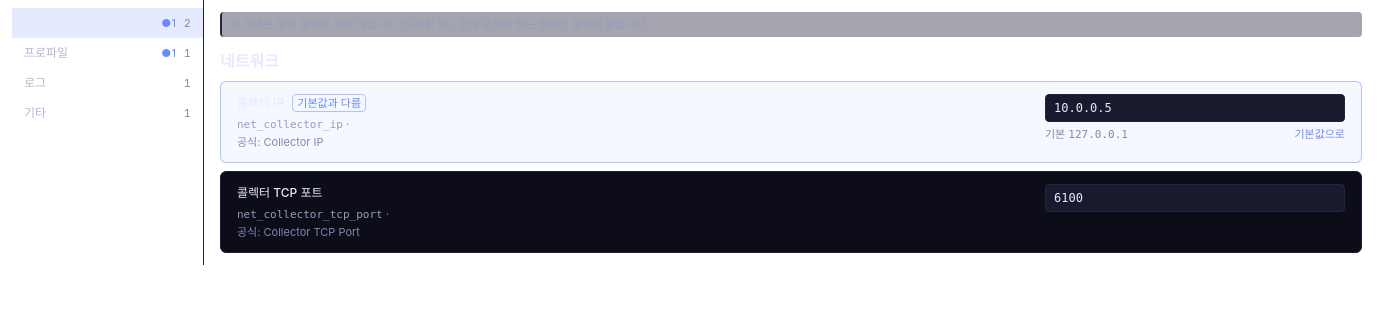
it: SettingsForm — 고치기 › 구역 목록에 저장하지 않은 바뀜 수가 뜬다
This screenshot has width=1378, height=325.
Replace the text in the field named "net_collector_ip" with "10.0.0.9" at (1195, 108), box [1045,94,1345,122]
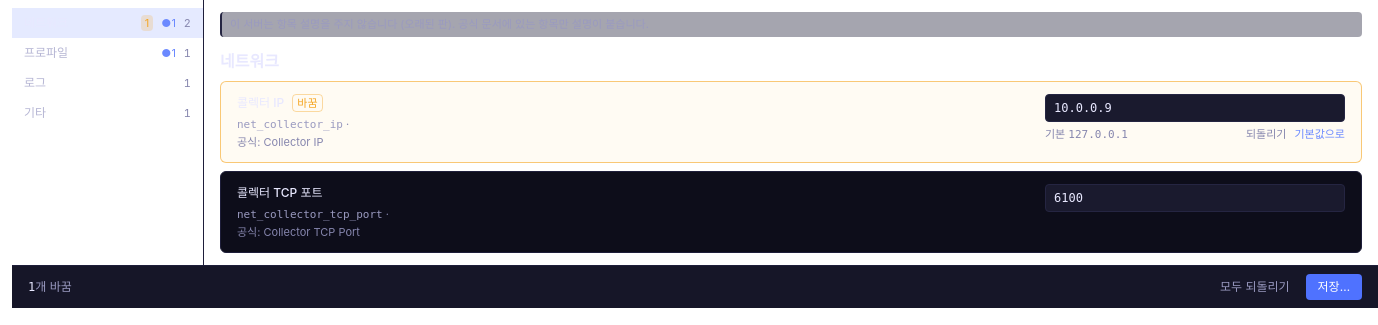
Expected: the 1st text titled "저장하지 않은 바뀜" reads "1", [145,16,149,30]
